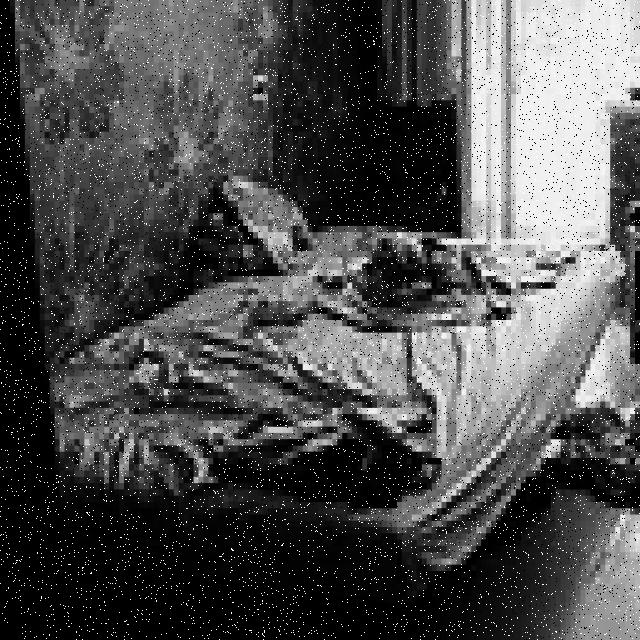bed: (39, 190, 622, 558)
